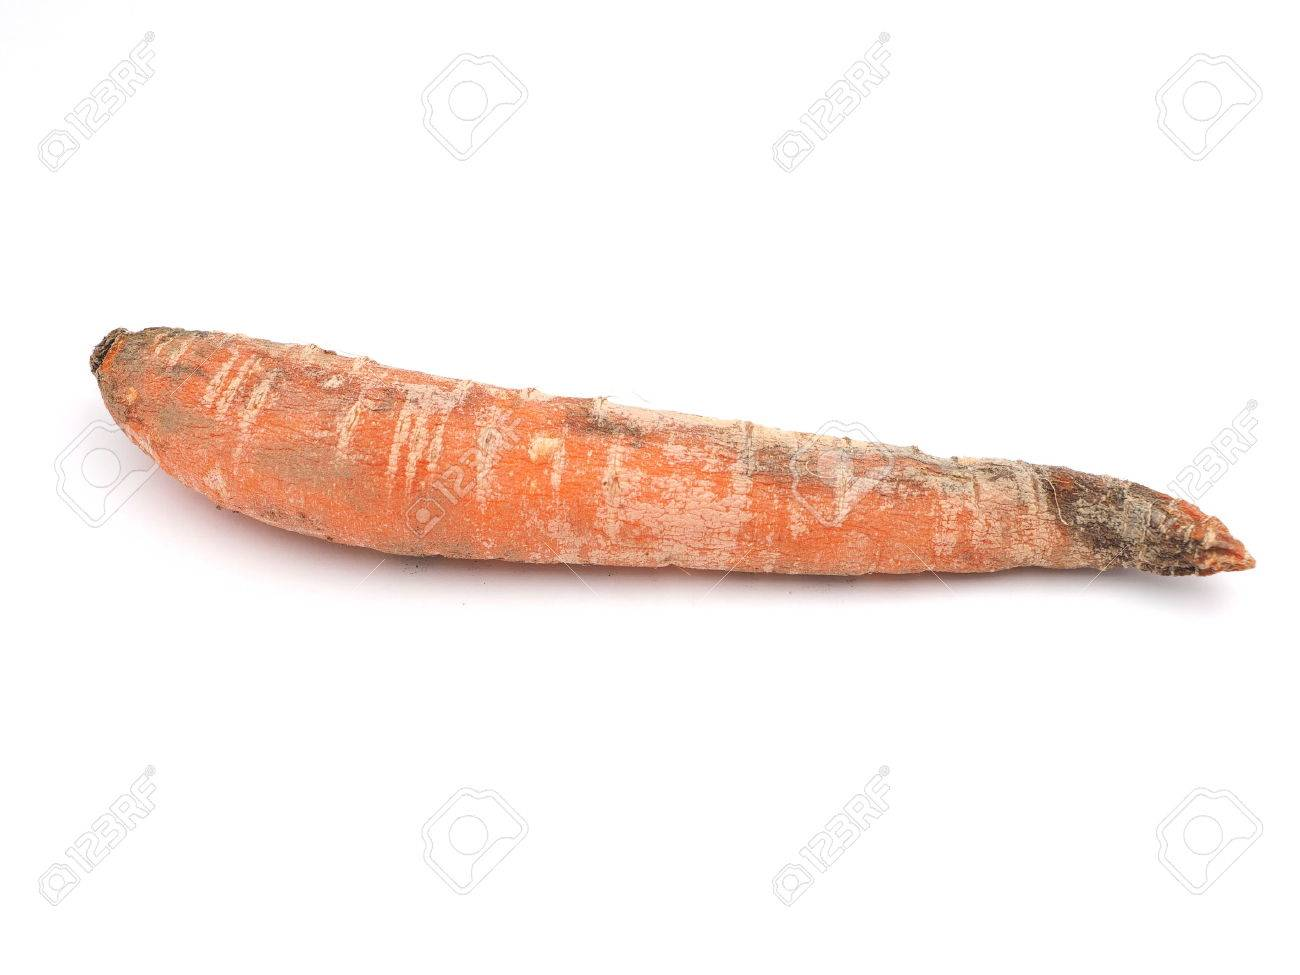rotten carrot: (86, 299, 1257, 643)
